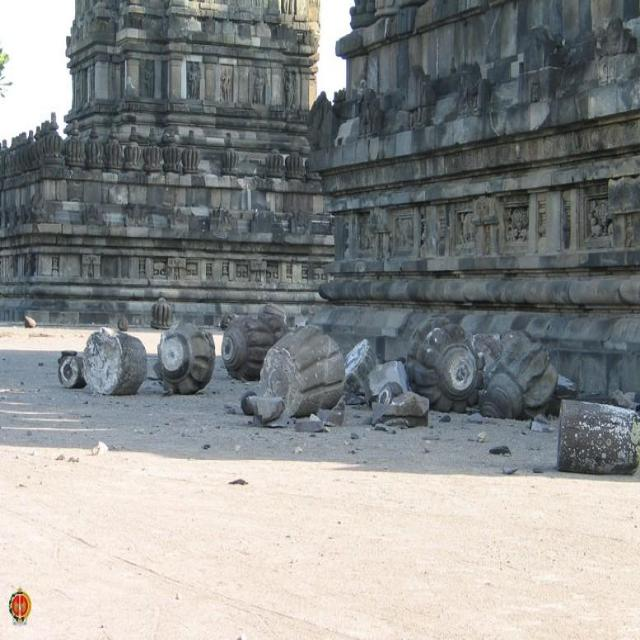damage: (57, 268, 640, 495)
